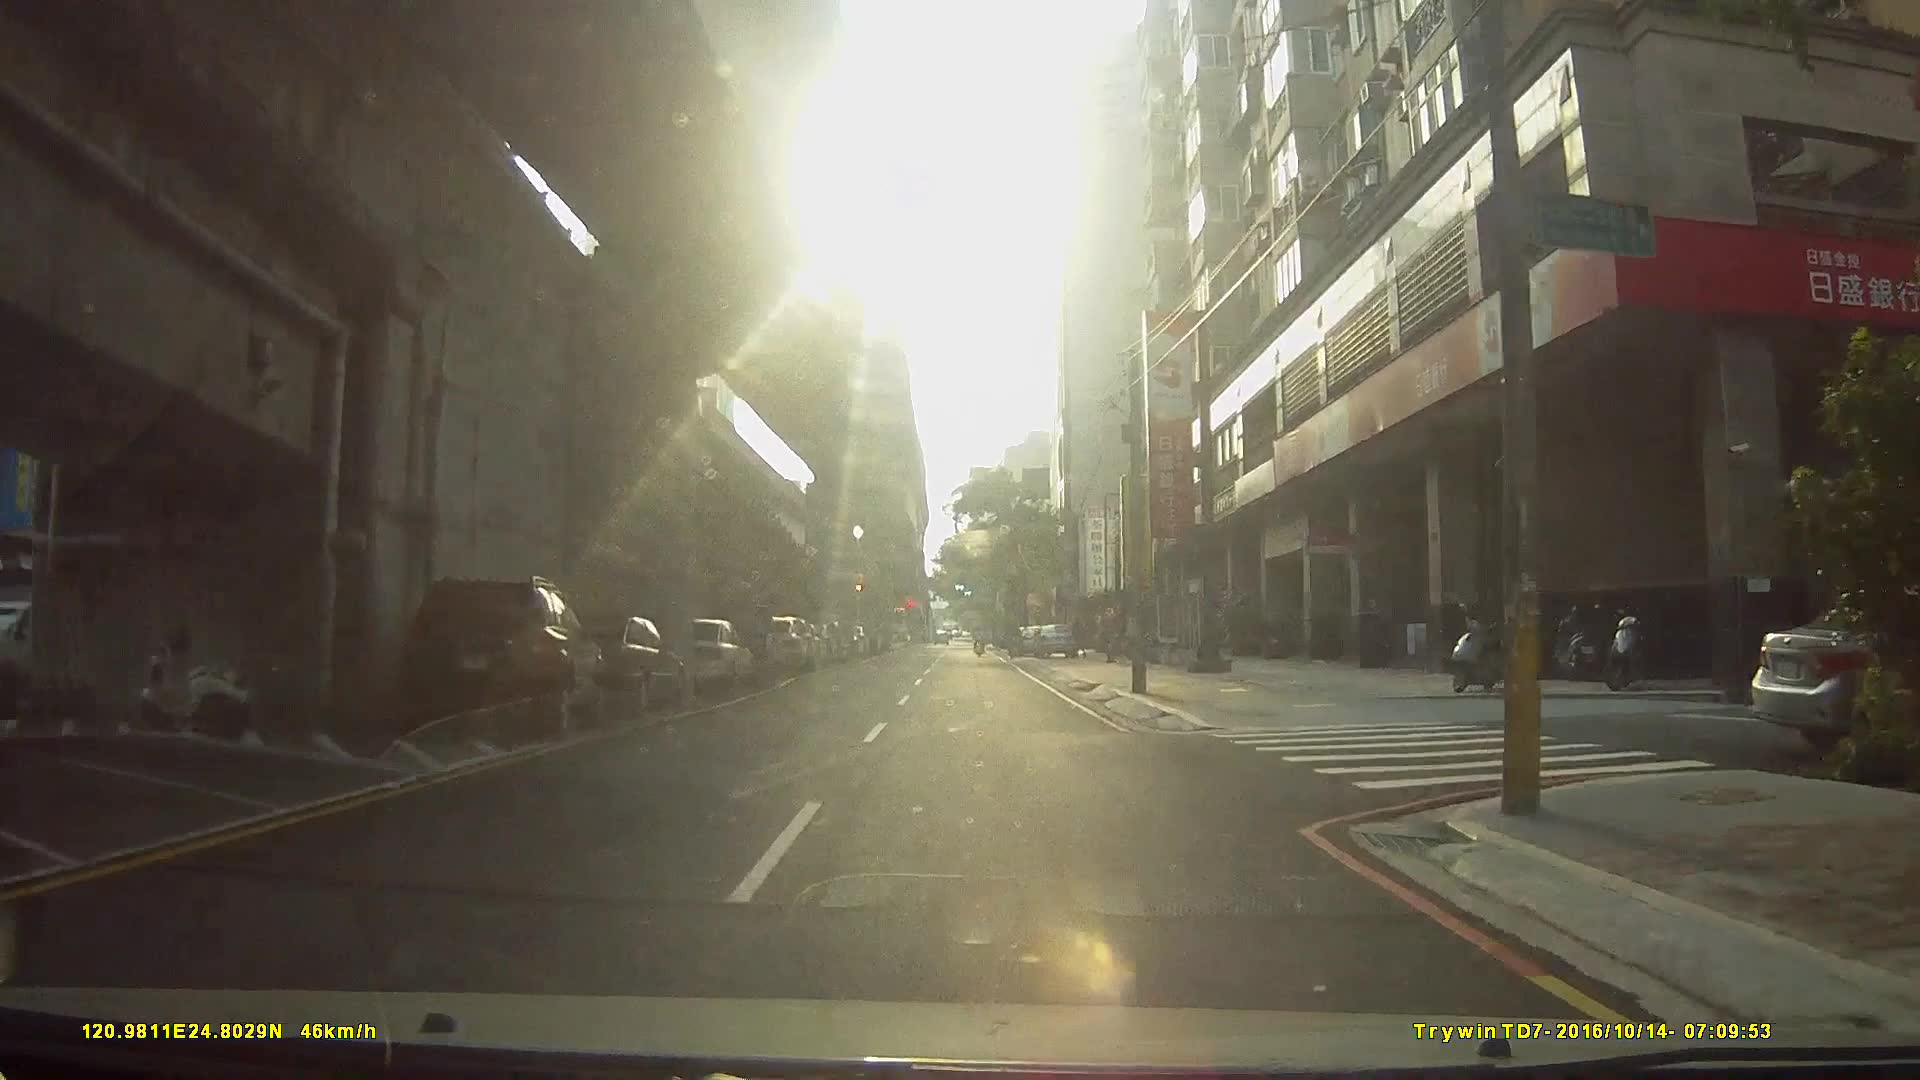vehicle: (396, 574, 604, 740), (524, 612, 682, 721), (659, 612, 754, 696), (659, 620, 794, 670), (1030, 618, 1079, 654)
